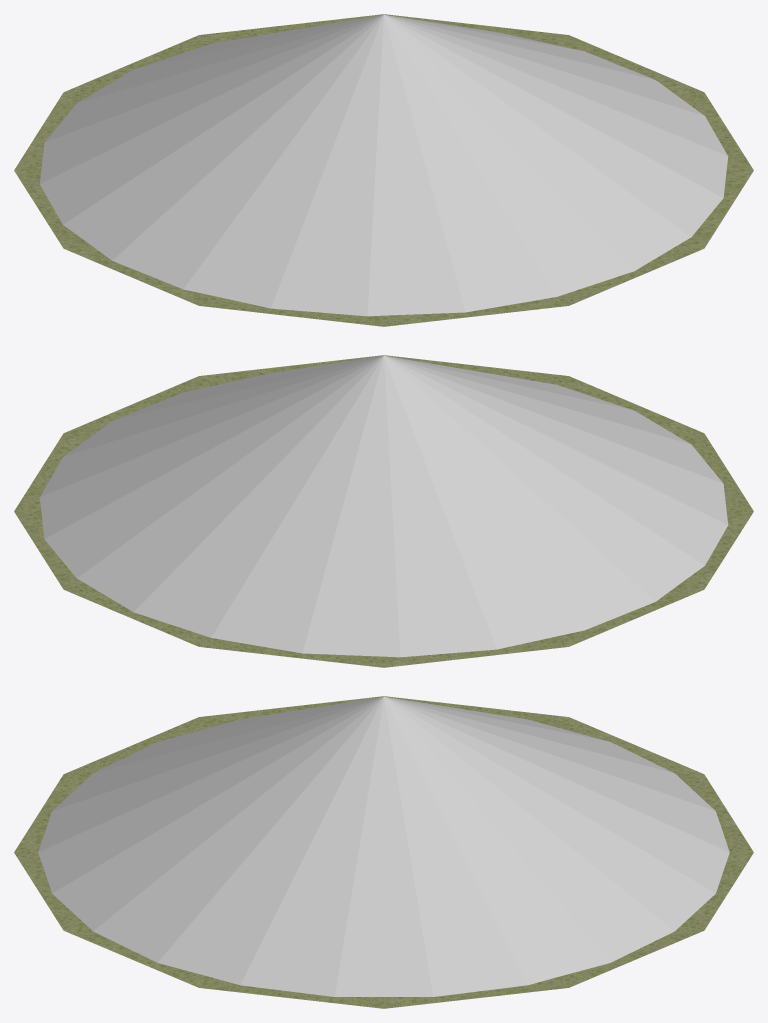
File: Map8Light.obj
The picture shows the model from 3 angles, top to bottom: view 1: azimuth 30°, elevation 25°; view 2: azimuth 150°, elevation 25°; view 3: azimuth 270°, elevation 25°; orthographic projection.
Bounding box in the file's own units: 329 × 85.89 × 329.
